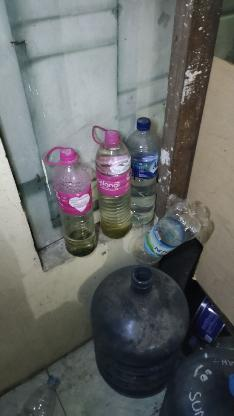Plastic Bottle: (133, 200, 209, 266), (51, 146, 95, 258), (94, 128, 132, 244), (131, 112, 159, 228)
